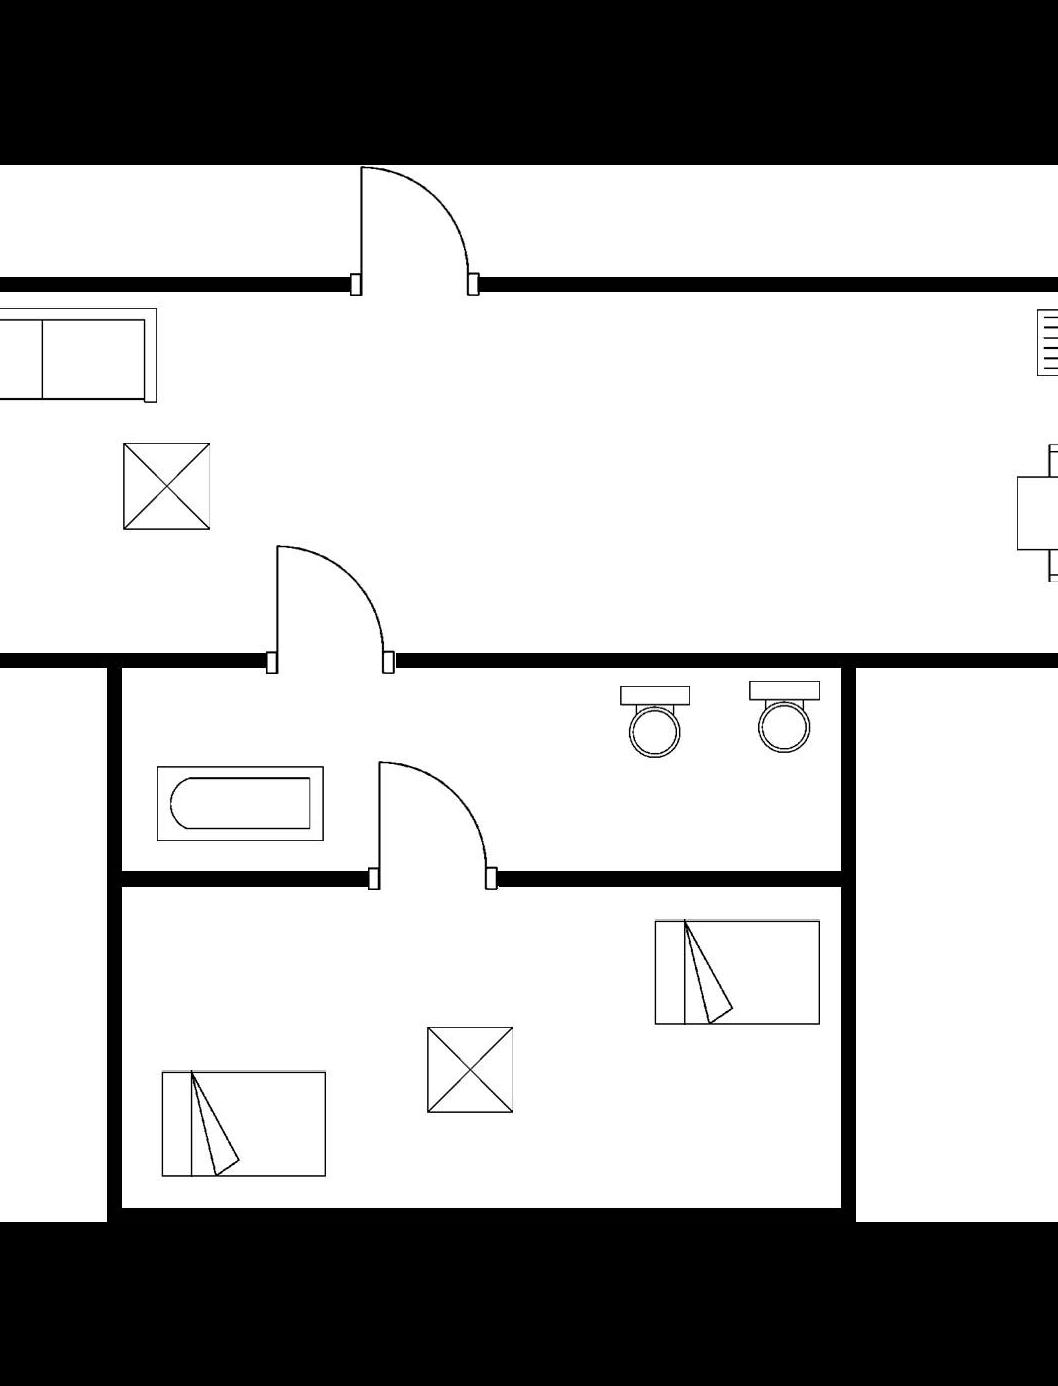bed: (152, 1059, 335, 1186), (643, 909, 827, 1033)
dining_table: (1006, 432, 1058, 591)
sink: (1026, 299, 1058, 382)
sofa: (0, 299, 168, 413)
toilet: (611, 674, 702, 762), (737, 674, 830, 757)
tub: (149, 755, 329, 848)
